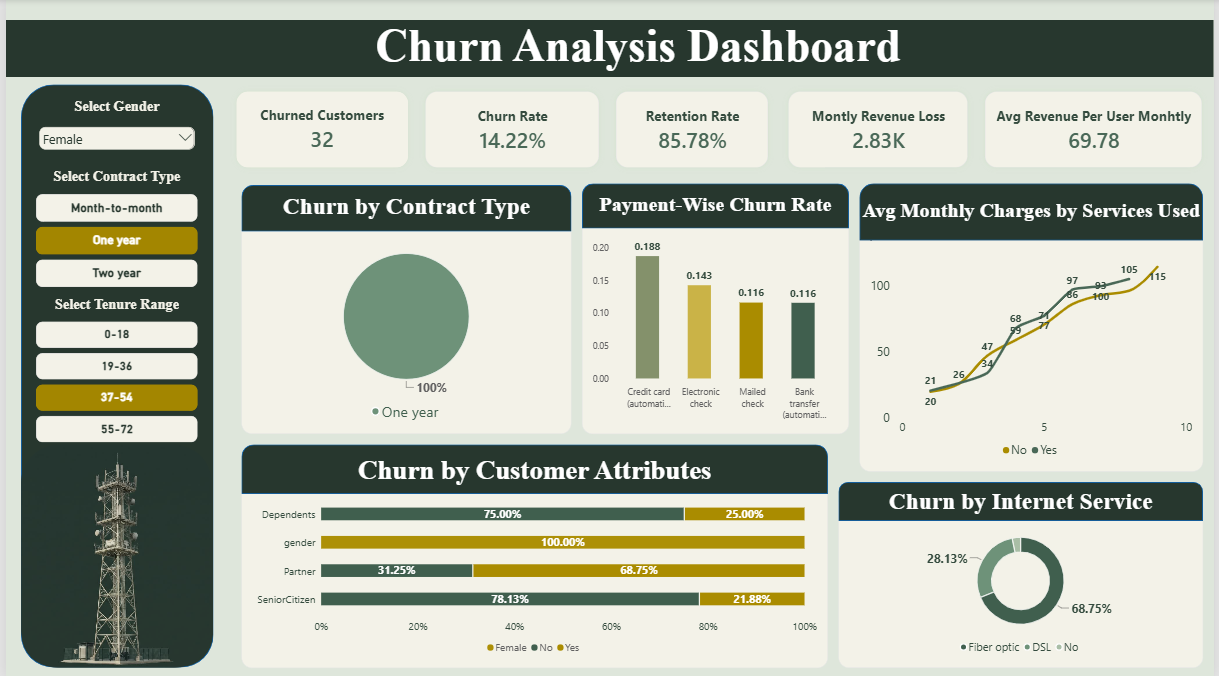

The page's visual inventory and layout, read from the dashboard file:
{"tool":"powerbi","page":{"name":"Churn Analysis","canvas":[1920,1080],"ordinal":0},"visuals":[{"type":"shape","box":[23.1,135.8,306.2,927.3],"z":500},{"type":"image","box":[23.9,708.6,303,355.5],"z":750},{"type":"advancedSlicerVisual","title":"Select Tenure Range ","fields":{"Values":["All customers.Tenure_Range"]},"box":[47.7,472.4,257.7,236.2],"z":1000},{"type":"cardVisual","fields":{"Data":["Measure.Total_churned_customers"]},"box":[354.7,136.8,295.9,143.2],"z":3000},{"type":"cardVisual","fields":{"Data":["Measure.Churn_rate"]},"box":[655.3,136.8,298.2,143.2],"z":4000},{"type":"cardVisual","fields":{"Data":["Measure.Retention_rate"]},"box":[958.3,136.8,264.8,143.2],"z":5000},{"type":"cardVisual","fields":{"Data":["Measure.Montly_revenue_loss"]},"box":[1232.7,136.8,307.8,143.2],"z":6000},{"type":"cardVisual","fields":{"Data":["Measure.Avg_revenue_per_user_monthly"]},"box":[1545.3,136.8,367.4,143.2],"z":7000},{"type":"pieChart","title":" Churn By Contact Type","fields":{"Category":["All customers.Contract"],"Y":["Measure.Total_churned_customers"]},"box":[374.6,307.8,524.9,384.1],"z":8000},{"type":"columnChart","title":" ","fields":{"Category":["All customers.PaymentMethod"],"Y":["Measure.Churn_rate"]},"box":[916.2,317.3,424.7,374.6],"z":9000},{"type":"lineChart","title":".","fields":{"Category":["All customers.TotalServices"],"Series":["All customers.Churn"],"Y":["Avg(All customers.MonthlyCharges)"]},"box":[1357.6,331.6,546.4,419.9],"z":10000},{"type":"hundredPercentStackedBarChart","title":" . ","fields":{"Category":["customer_attribute.Attribute"],"Series":["customer_attribute.Value"],"Y":["Measure.Total_churned_customers"]},"box":[374.6,768.3,932.9,295.9],"z":11000},{"type":"donutChart","title":".","fields":{"Category":["All customers.InternetService"],"Y":["Measure.Total_churned_customers"]},"box":[1324.2,787.4,580,276.8],"z":12000},{"type":"textbox","box":[0,33.4,1920.7,90.7],"z":14000},{"type":"shape","box":[374.6,295.9,524.9,74],"z":14500},{"type":"textbox","box":[374.6,307.8,524.9,57.3],"z":15000},{"type":"shape","box":[916.2,293.5,424.7,71.6],"z":16000},{"type":"textbox","box":[916.2,307.8,424.7,45.3],"z":17000},{"type":"shape","box":[1357.6,293.5,546.4,90.7],"z":18000},{"type":"textbox","box":[1357.6,317.3,546.4,109.8],"z":19000},{"type":"shape","box":[374.6,708.6,932.9,78.7],"z":20000},{"type":"textbox","box":[374.6,725.3,932.9,62],"z":21000},{"type":"shape","box":[1324.2,768.3,579.8,62],"z":22000},{"type":"textbox","box":[1324.2,778,579.8,50.1],"z":23000},{"type":"advancedSlicerVisual","title":"Select Contract Type","fields":{"Values":["All customers.Contract"]},"box":[47.7,269.6,257.7,190.9],"z":23001},{"type":"slicer","title":"Select Gender ","fields":{"Values":["All customers.gender"]},"box":[47.7,157.5,257.7,112.1],"z":23002}]}

Visuals, with their boxes in screenshot pixels (x1, y1, x2, y2), scaled from the page's 1920x1080 canvas onto the 1219x676 screenshot:
shape: Rect(15, 85, 209, 665)
image: Rect(15, 444, 208, 666)
"Select Tenure Range " advancedSlicerVisual: Rect(30, 296, 194, 444)
cardVisual - Measure.Total_churned_customers: Rect(225, 86, 413, 175)
cardVisual - Measure.Churn_rate: Rect(416, 86, 605, 175)
cardVisual - Measure.Retention_rate: Rect(608, 86, 777, 175)
cardVisual - Measure.Montly_revenue_loss: Rect(783, 86, 978, 175)
cardVisual - Measure.Avg_revenue_per_user_monthly: Rect(981, 86, 1214, 175)
" Churn By Contact Type" pieChart: Rect(238, 193, 571, 433)
" " columnChart: Rect(582, 199, 851, 433)
"." lineChart: Rect(862, 208, 1209, 470)
" . " hundredPercentStackedBarChart: Rect(238, 481, 830, 666)
"." donutChart: Rect(841, 493, 1209, 666)
textbox: Rect(0, 21, 1218, 78)
shape: Rect(238, 185, 571, 232)
textbox: Rect(238, 193, 571, 229)
shape: Rect(582, 184, 851, 229)
textbox: Rect(582, 193, 851, 221)
shape: Rect(862, 184, 1209, 240)
textbox: Rect(862, 199, 1209, 267)
shape: Rect(238, 444, 830, 493)
textbox: Rect(238, 454, 830, 493)
shape: Rect(841, 481, 1209, 520)
textbox: Rect(841, 487, 1209, 518)
"Select Contract Type" advancedSlicerVisual: Rect(30, 169, 194, 288)
"Select Gender " slicer: Rect(30, 99, 194, 169)
